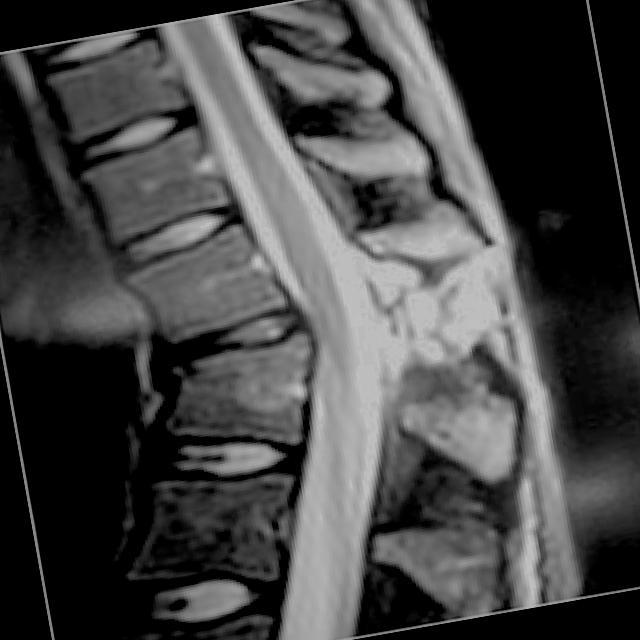Compression-Crush Fracutre: (150, 347, 342, 454)
